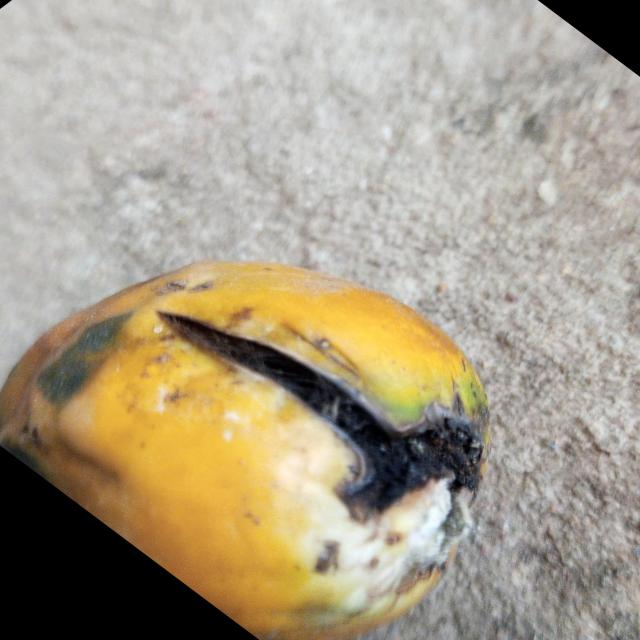damaged: (0, 262, 489, 640)
